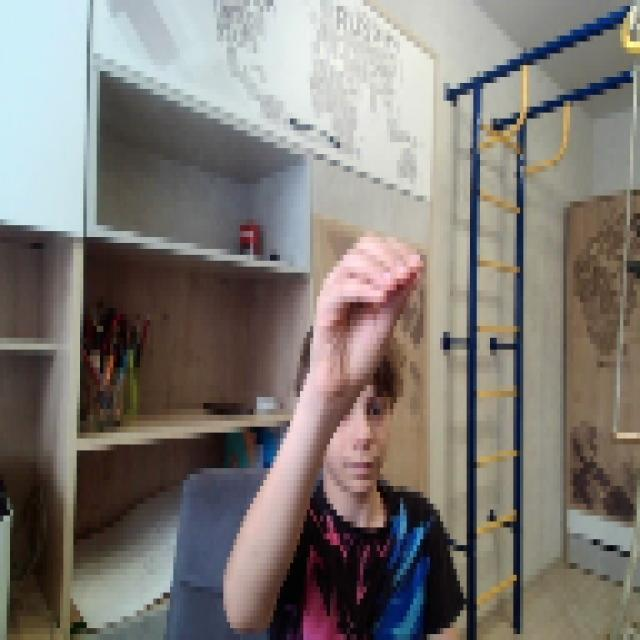left_click: (307, 225, 423, 391)
